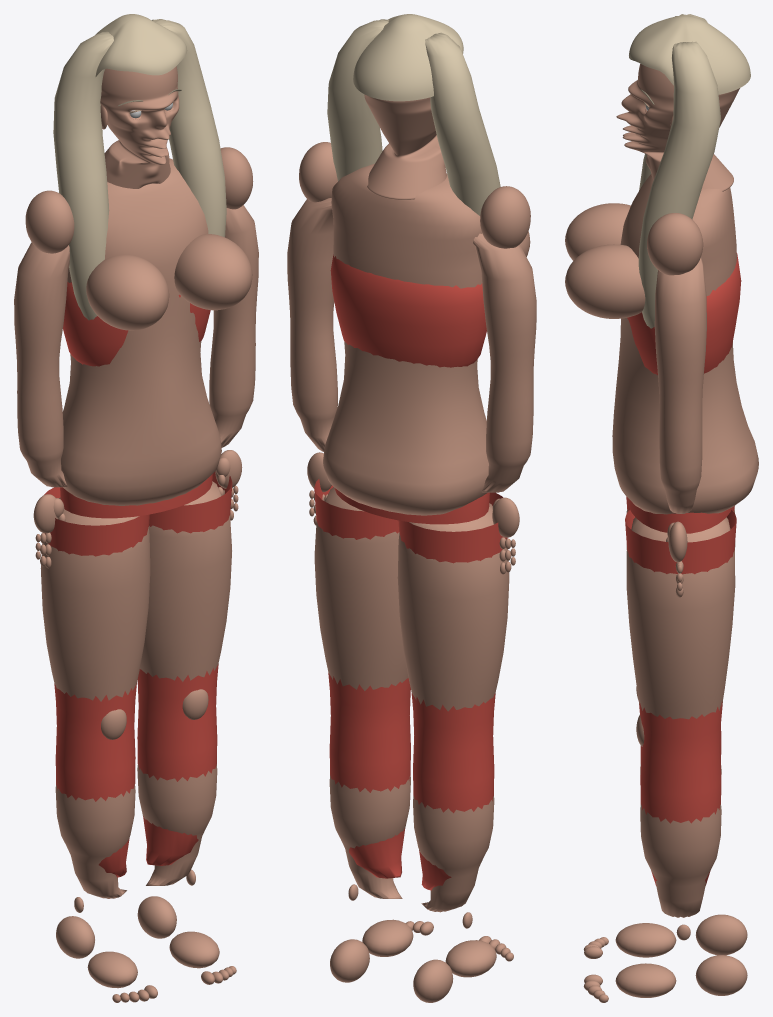
Rendered from female_slender.obj.
The picture shows the model from 3 angles, left to right: view 1: azimuth 30°, elevation 25°; view 2: azimuth 150°, elevation 25°; view 3: azimuth 270°, elevation 25°; orthographic projection.
Visible parts, largest first — view 1: Body_female_slender, Garment_Leggings, Hair_long_wavy, Garment_Top; view 2: Body_female_slender, Garment_Leggings, Hair_long_wavy, Garment_Top; view 3: Body_female_slender, Hair_long_wavy, Garment_Leggings, Garment_Top.
Part boxes in pixels (bbox=[...]): Body_female_slender: bbox=[14, 66, 258, 1002]; Garment_Leggings: bbox=[44, 471, 232, 877]; Hair_long_wavy: bbox=[53, 14, 226, 320]; Garment_Top: bbox=[63, 282, 210, 366]; Body_female_slender: bbox=[287, 94, 536, 1002]; Garment_Leggings: bbox=[314, 479, 507, 890]; Hair_long_wavy: bbox=[327, 14, 500, 215]; Garment_Top: bbox=[330, 254, 486, 367]; Body_female_slender: bbox=[565, 63, 758, 1002]; Hair_long_wavy: bbox=[629, 14, 750, 328]; Garment_Leggings: bbox=[625, 496, 736, 885]; Garment_Top: bbox=[627, 253, 741, 374].
Bounding box in the file's own units: 0.4803 × 1.82 × 0.334.
